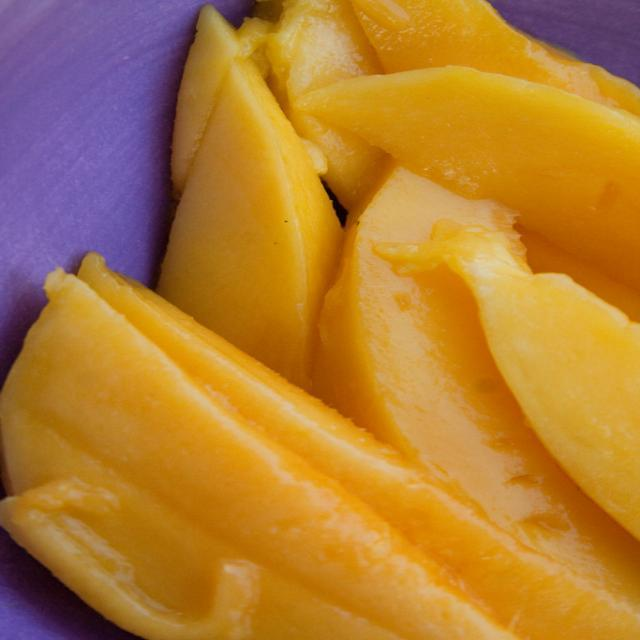Mango: (0, 0, 639, 639), (0, 286, 515, 639), (146, 33, 336, 365)
